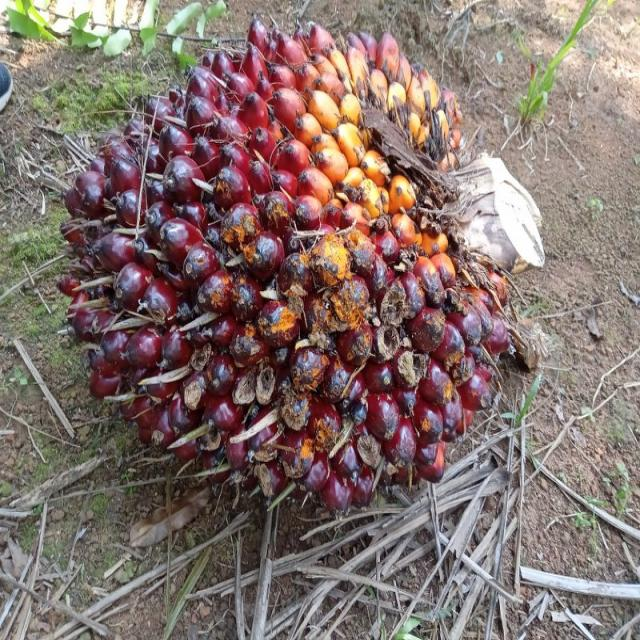fraksi 1: (44, 0, 560, 550)
